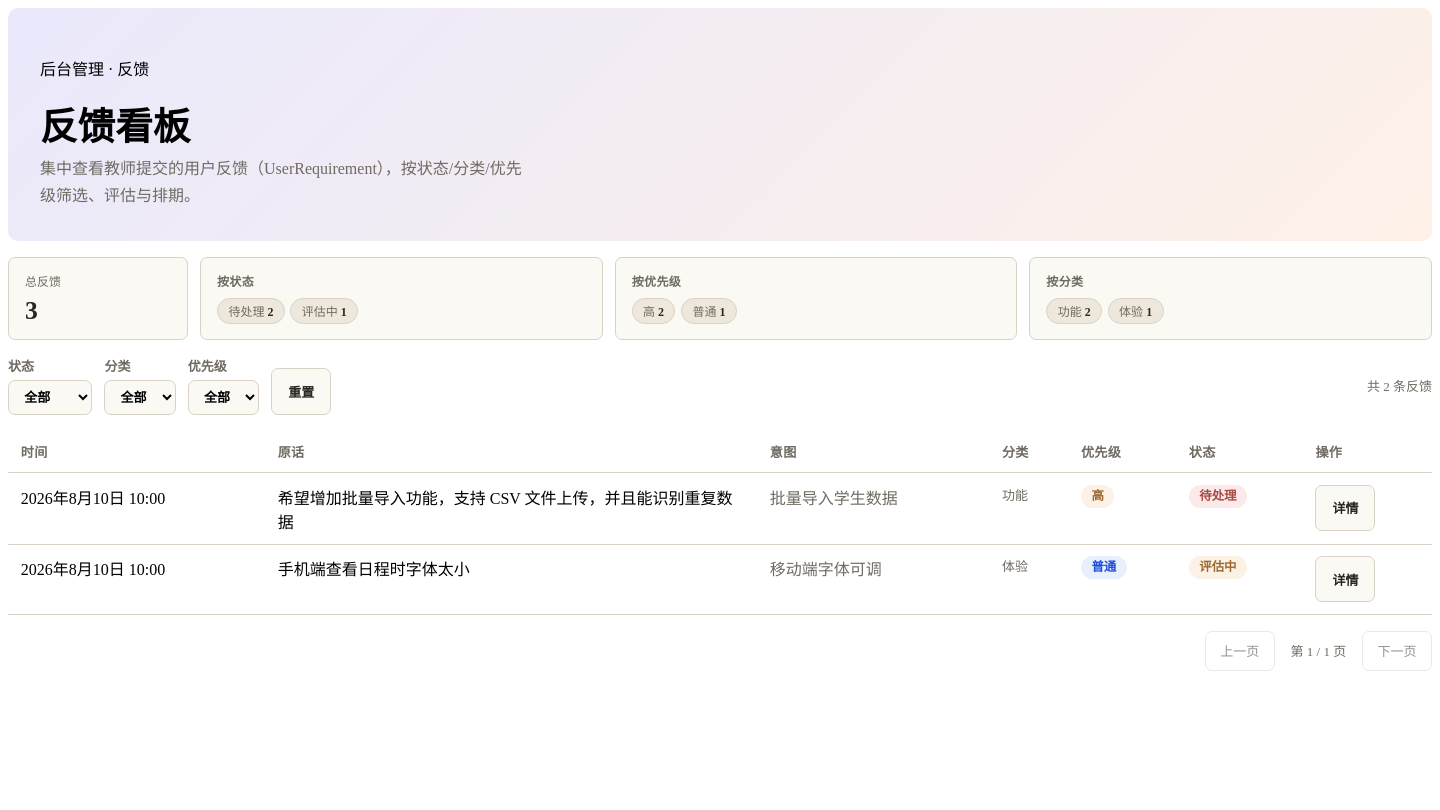
FeedbackBoardPage › 管理动作：确认后 updateFeedbackStatus + 审计 toast + 刷新列表与汇总
Expected: the text "共 2 条反馈" is shown, left=1367, top=376, right=1432, bottom=395
Step 1. Click the button "详情" in the row of "希望增加批量导入功能，支持 CSV 文件上传，并且能识别重复数据" → coordinates (1345, 508), box left=1315, top=484, right=1375, bottom=531
(page scrolled)
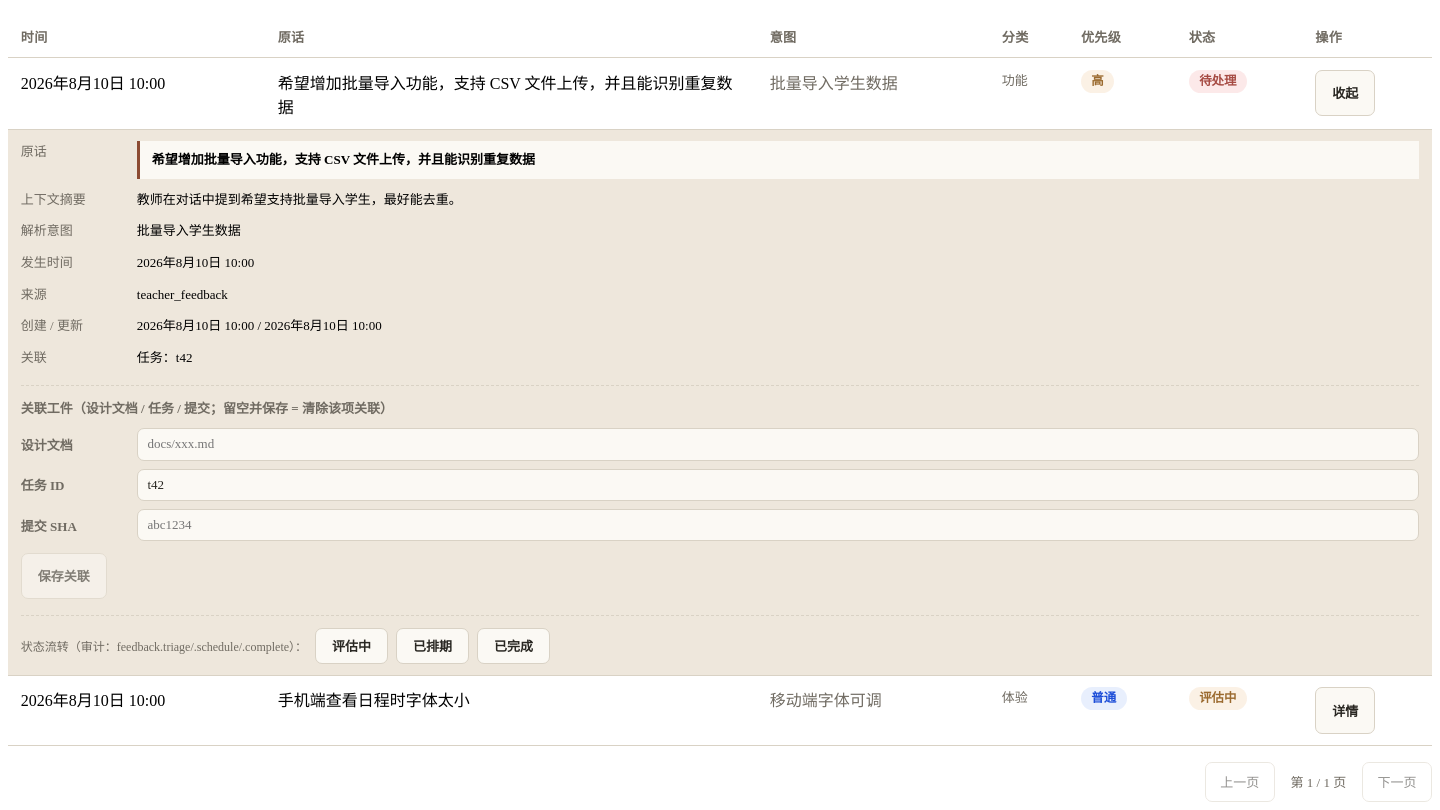
Step 2. Click the button "评估中" → coordinates (352, 646), box left=315, top=628, right=388, bottom=664
(page scrolled)
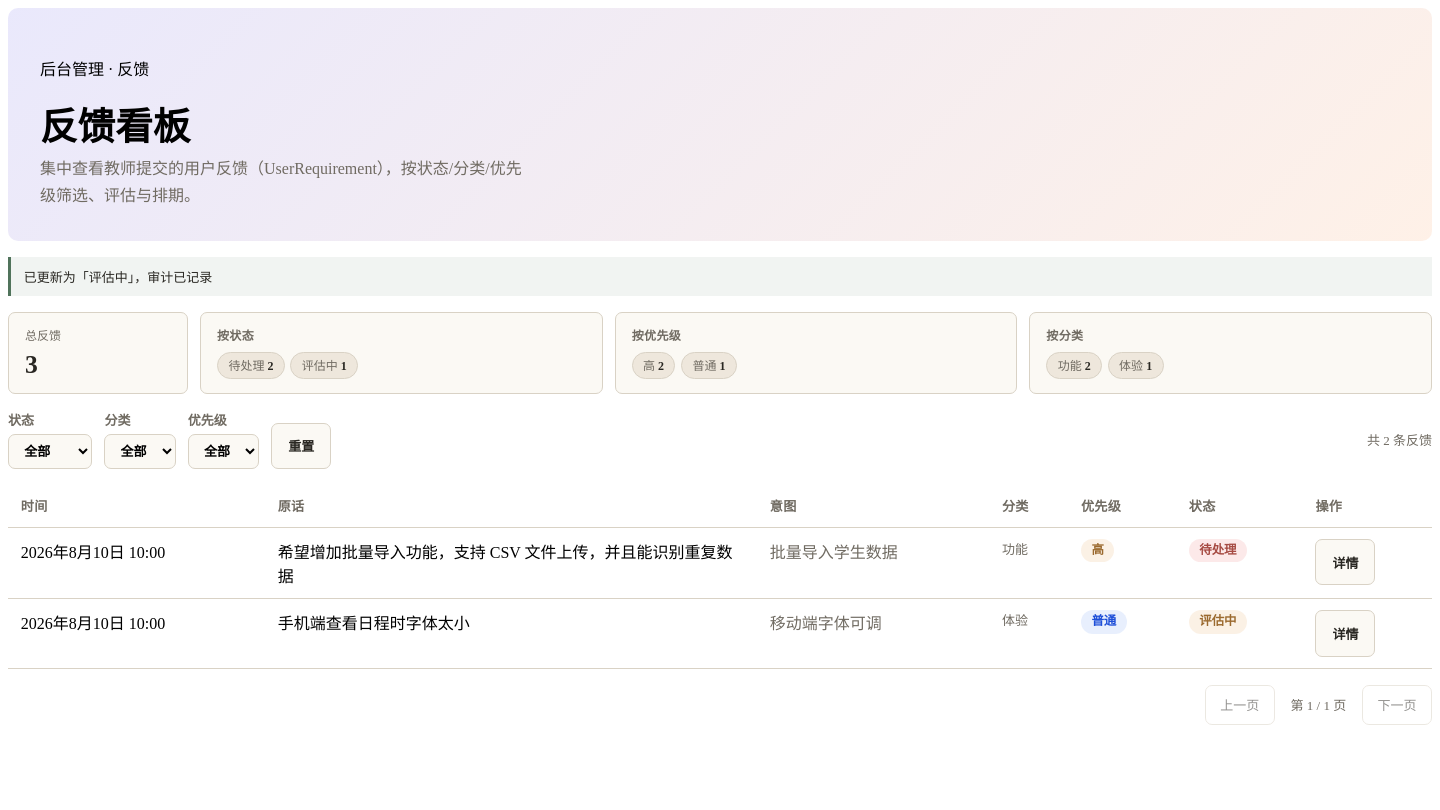
Expected: the text "已更新为「评估中」，审计已记录" is shown, left=8, top=257, right=1432, bottom=296
